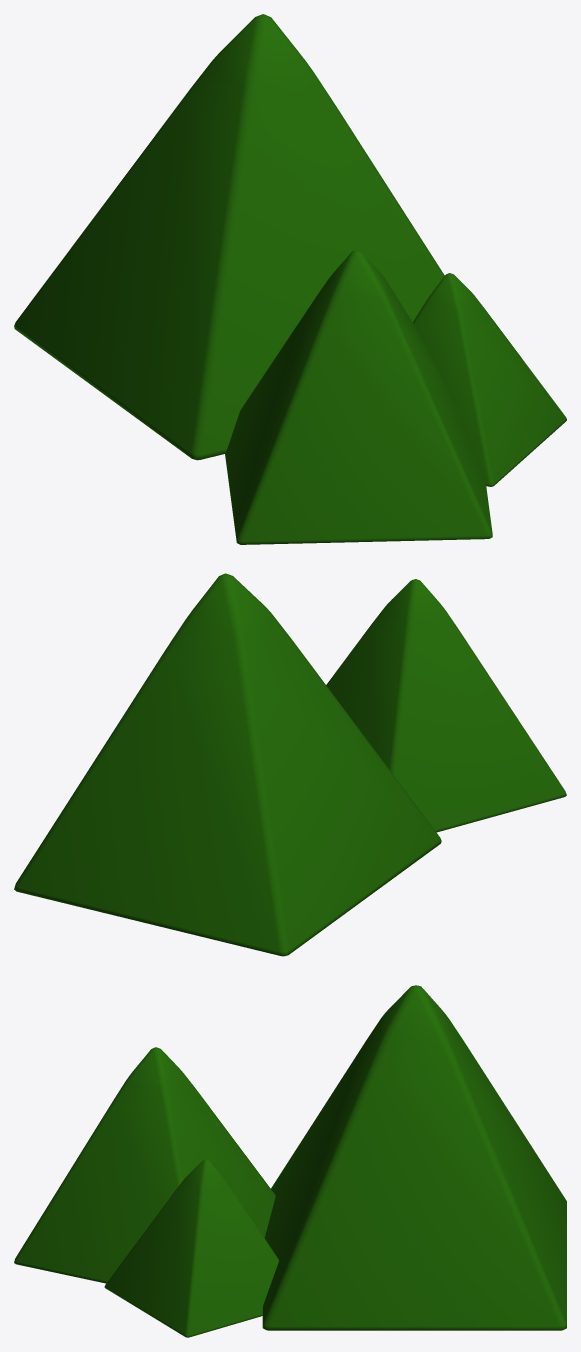
File: bush-04_col.fbx
3 renders of one model, top to bottom at view 1: azimuth 30°, elevation 25°; view 2: azimuth 150°, elevation 25°; view 3: azimuth 270°, elevation 25°, orthographic. The views are drawn at different scales.
Visible parts, largest first — view 1: bush-04.col; view 2: bush-04.col; view 3: bush-04.col.
Part boxes in pixels (x1,y1,x2,y2): bush-04.col: (14, 14, 566, 544); bush-04.col: (14, 573, 566, 956); bush-04.col: (14, 985, 566, 1337).
Size of the model in its own units: 0.1571 by 0.138 by 0.2415.
Materials: 1 (1 with a texture image).
